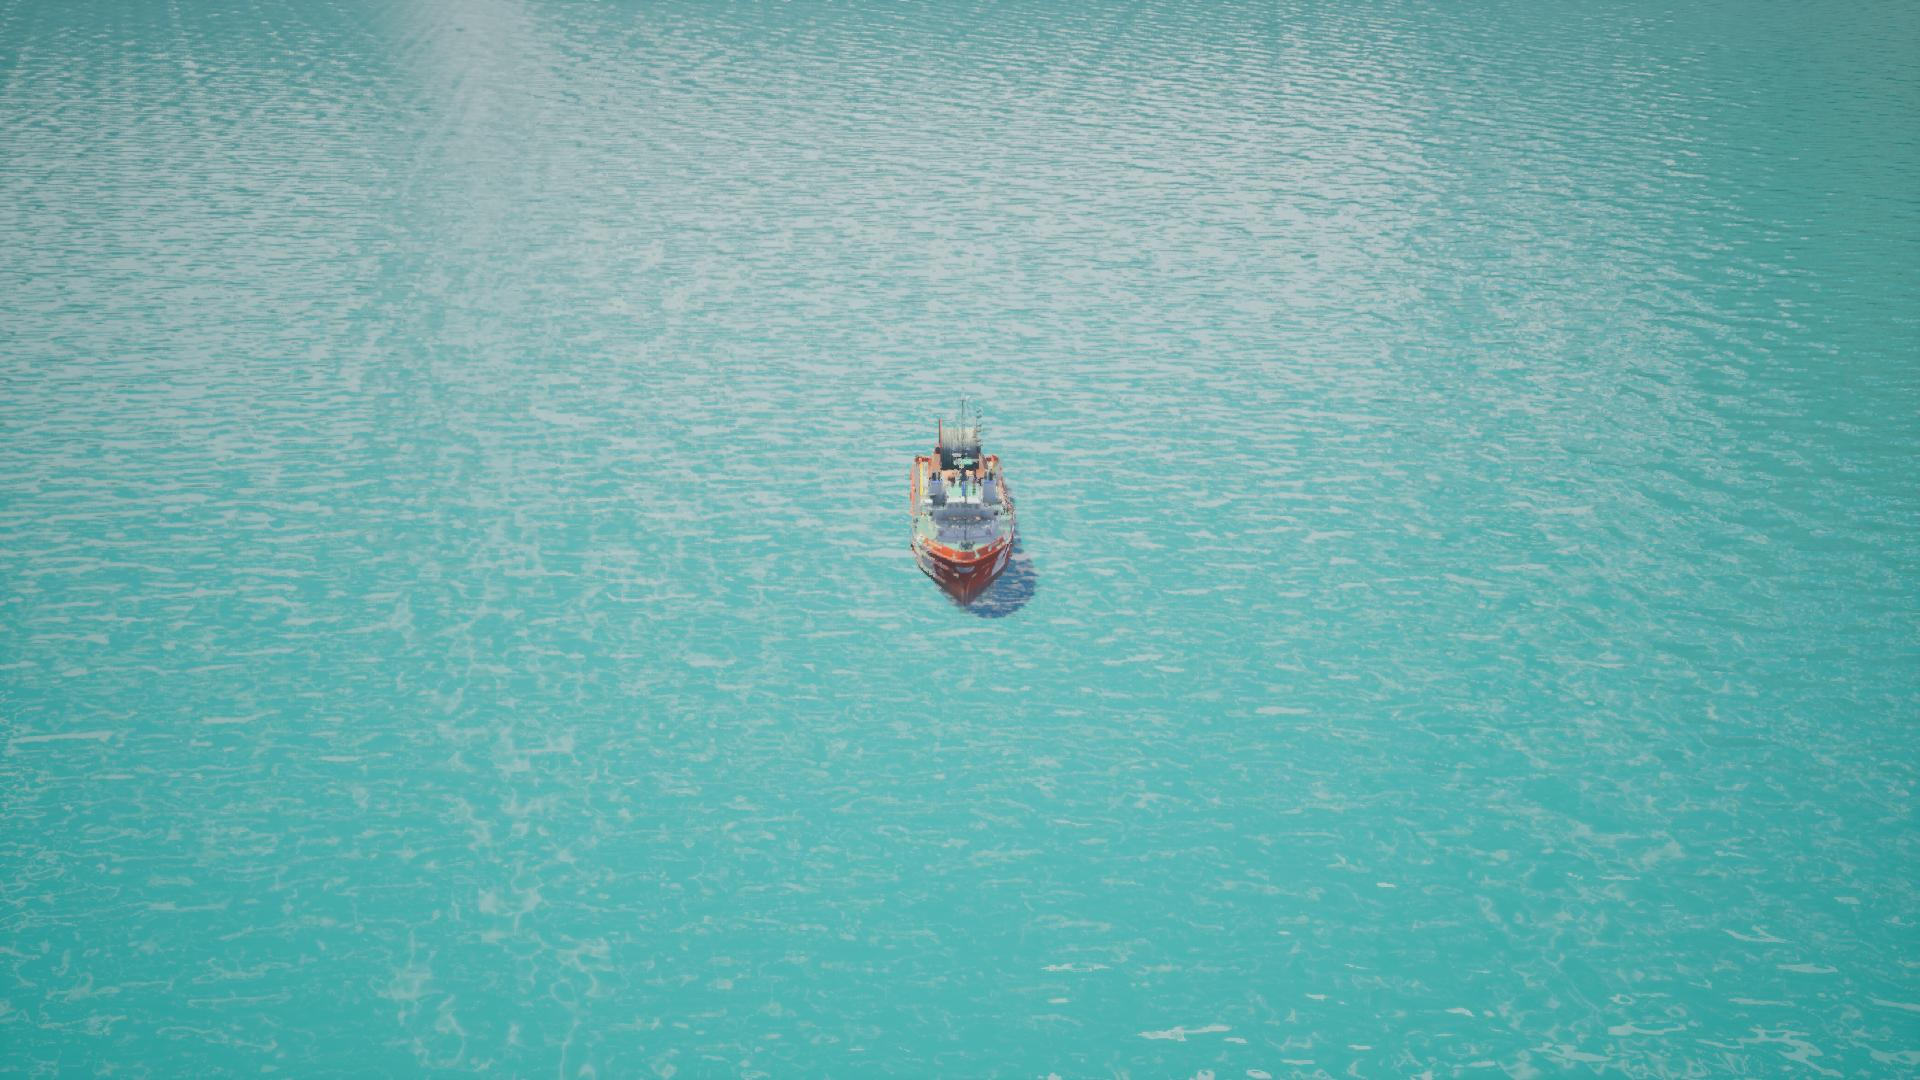Tug Boat: (906, 435, 1021, 617)
